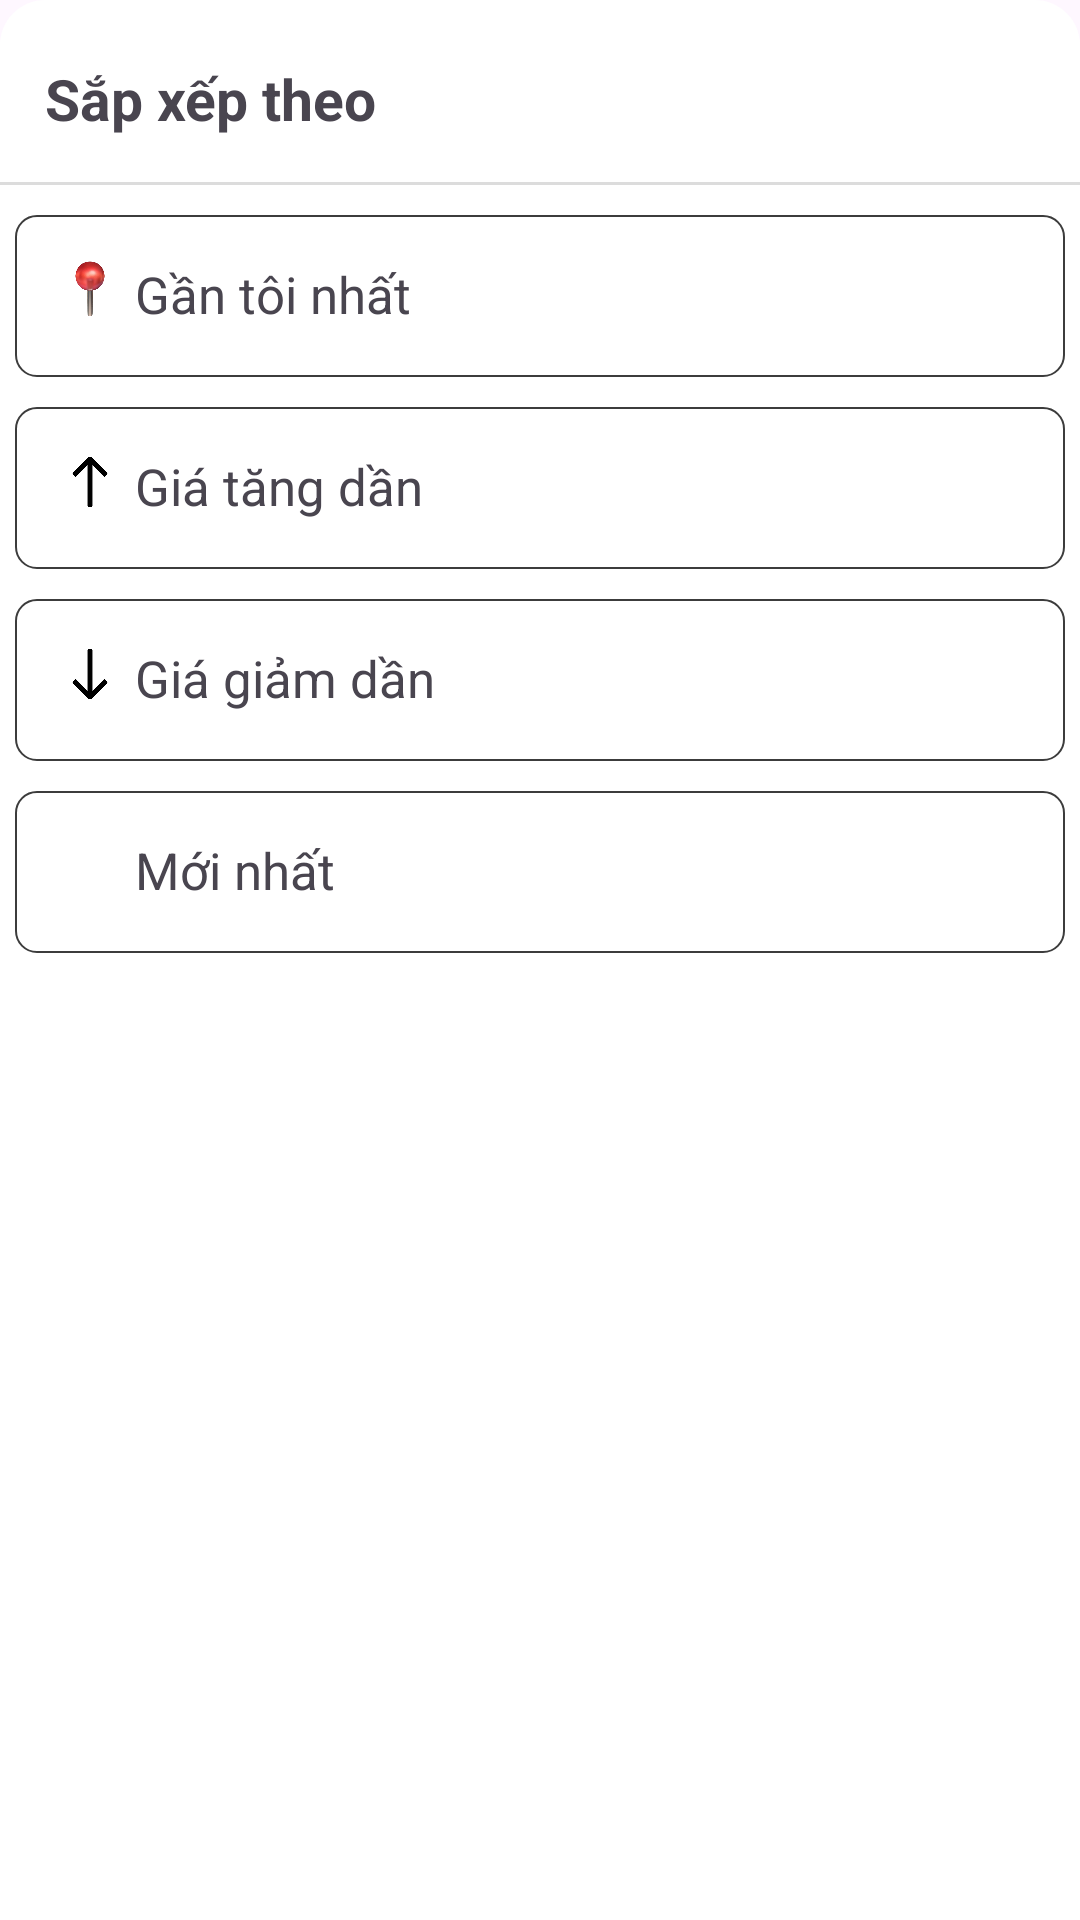

Icons on this 1080w x 1920h Android screen, each with the point to tap as (x=x, y=y):
diadiem: (x=90, y=288)
giam: (x=90, y=674)
tang: (x=90, y=482)
